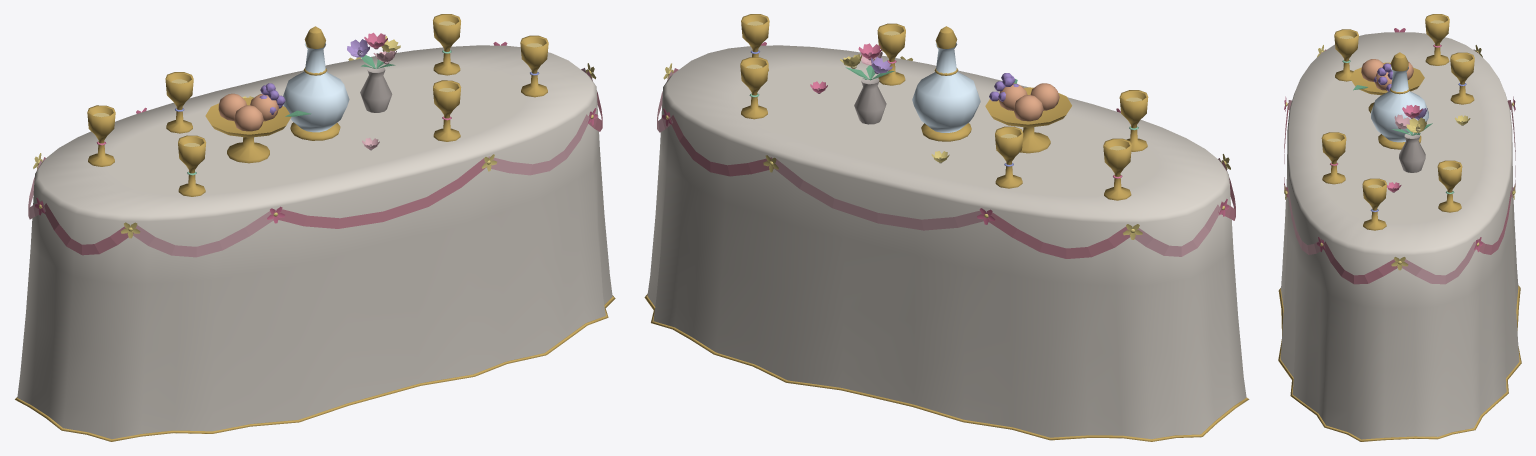
Rendered from wine_table_solstice.glb.
The picture shows the model from 3 angles, left to right: view 1: azimuth 30°, elevation 25°; view 2: azimuth 150°, elevation 25°; view 3: azimuth 270°, elevation 25°; orthographic projection. The views are drawn at different scales.
Visible parts, largest first — view 1: wine_table_solstice; view 2: wine_table_solstice; view 3: wine_table_solstice.
Boxes of the visible parts, x1,y1,x2,y2 form: wine_table_solstice: (15, 14, 615, 441); wine_table_solstice: (644, 14, 1249, 441); wine_table_solstice: (1278, 14, 1521, 441).
Size of what is drawn, in the model's own units: 1.8 by 1 by 0.8.
